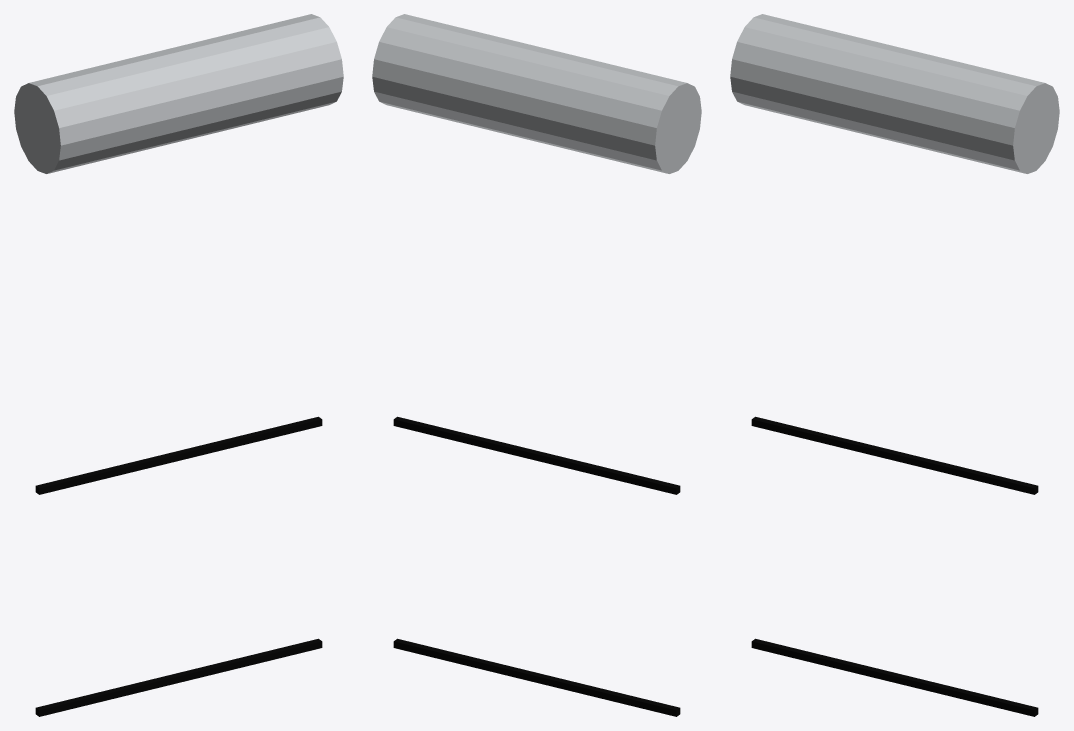
The model's file is moretop_0.obj.
3 views of the same model, side by side, from view 1: azimuth 30°, elevation 25°; view 2: azimuth 150°, elevation 25°; view 3: azimuth 330°, elevation 25° (orthographic).
Visible parts, largest first — view 1: moretop_1.002, moretop_1.004; view 2: moretop_1.002, moretop_1.004; view 3: moretop_1.002, moretop_1.004.
Boxes of the visible parts, box(x1,y1,x2,y2) form: moretop_1.002: box(14, 14, 343, 173); moretop_1.004: box(35, 416, 322, 716); moretop_1.002: box(372, 14, 701, 173); moretop_1.004: box(393, 416, 680, 716); moretop_1.002: box(730, 14, 1059, 173); moretop_1.004: box(751, 416, 1038, 716).
Size of the model in its own units: 1.4 by 2.98 by 0.4.
Materials: 2 (2 with a texture image).
